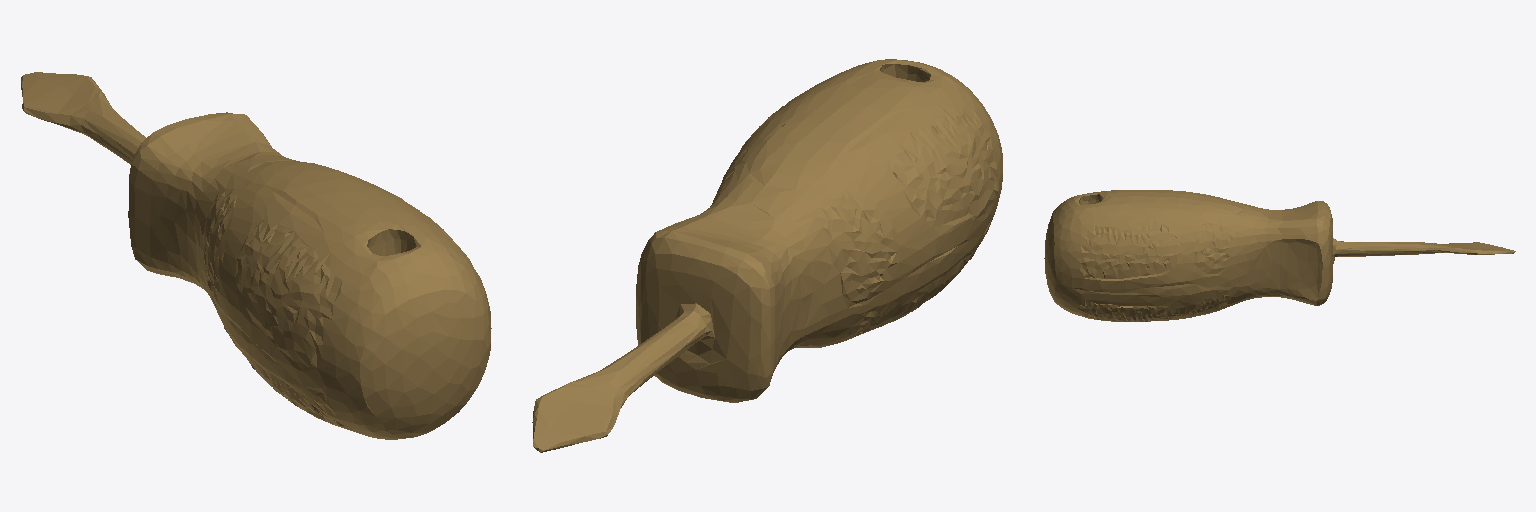
The robot description file, URDF, robot "short_screwdriver_y_axis":
<?xml version="1.0"?>
<robot name="short_screwdriver_y_axis">
  <link name="short_screwdriver">
    <visual>
      <origin xyz="0 0 0" rpy="0 0 1.5707963"/>
      <geometry>
        <mesh filename="short_screwdriver.obj" scale="0.8 1.2 1.2"/>
      </geometry>
      <material name="yellow_handle">
        <color rgba="0.62 0.52 0.34 1.0"/>
      </material>
    </visual>
    <collision>
      <origin xyz="0 0 0" rpy="0 0 1.5707963"/>
      <geometry>
        <mesh filename="short_screwdriver.obj" scale="0.8 1.2 1.2"/>
      </geometry>
    </collision>
    <inertial>
      <density value="400.0"/>
    </inertial>
  </link>
</robot>

--- What the picture shows (computed from the rendered views, not written in the file) ---
Views: 3 orthographic renders of the robot side by side, from view 1: azimuth 30°, elevation 25°; view 2: azimuth 150°, elevation 25°; view 3: azimuth 270°, elevation 25°.
Robot: short_screwdriver_y_axis — 1 links, 0 joints (none); root link short_screwdriver; default pose: all joints at 0.
Visible links, largest first — view 1: short_screwdriver; view 2: short_screwdriver; view 3: short_screwdriver.
Boxes of the visible links, x1,y1,x2,y2 form: short_screwdriver: (21,72,491,439); short_screwdriver: (532,59,1002,452); short_screwdriver: (1044,190,1515,321).
Size in the robot's own frame: 0.0424 by 0.1517 by 0.0424 metres.
1 mesh visuals loaded from 1 distinct referenced files (1 OBJ).
